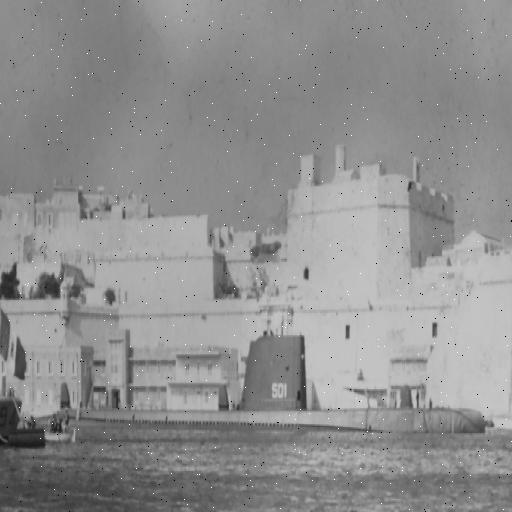submarine: (32, 335, 488, 434)
